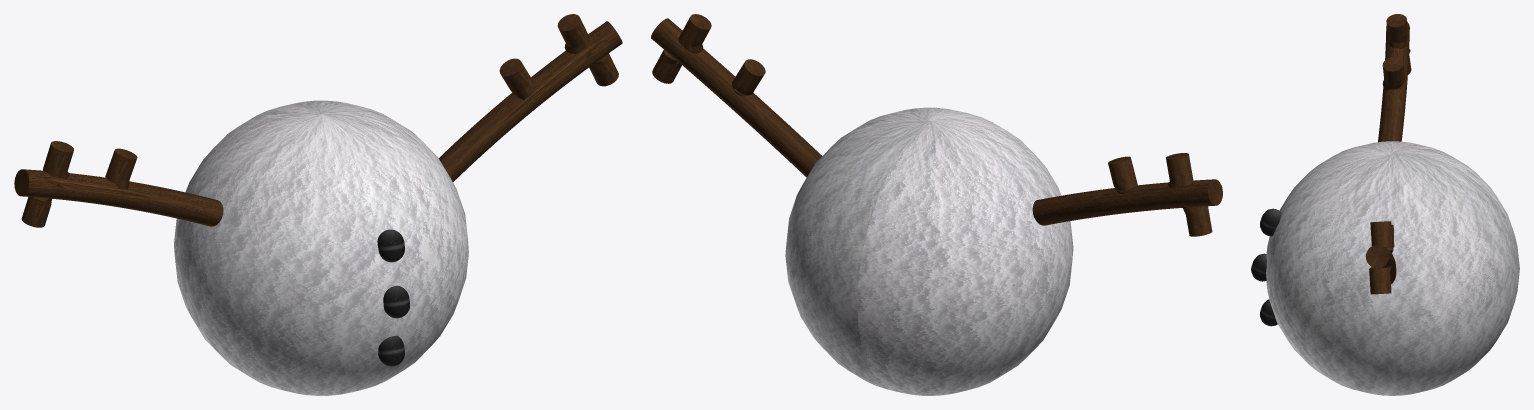
The model's file is muneco2.obj.
3 views of the same model, side by side, from view 1: azimuth 30°, elevation 25°; view 2: azimuth 150°, elevation 25°; view 3: azimuth 270°, elevation 25° (orthographic). The views are drawn at different scales.
Parts seen in each view (by area): view 1: muneco; view 2: muneco; view 3: muneco.
Part boxes in pixels (left/top/right/bottom): muneco: left=14, top=14, right=622, bottom=395; muneco: left=651, top=14, right=1222, bottom=395; muneco: left=1251, top=14, right=1519, bottom=395.
Bounding box in the file's own units: 152 × 76.73 × 69.81.
3 materials, 3 textured.
